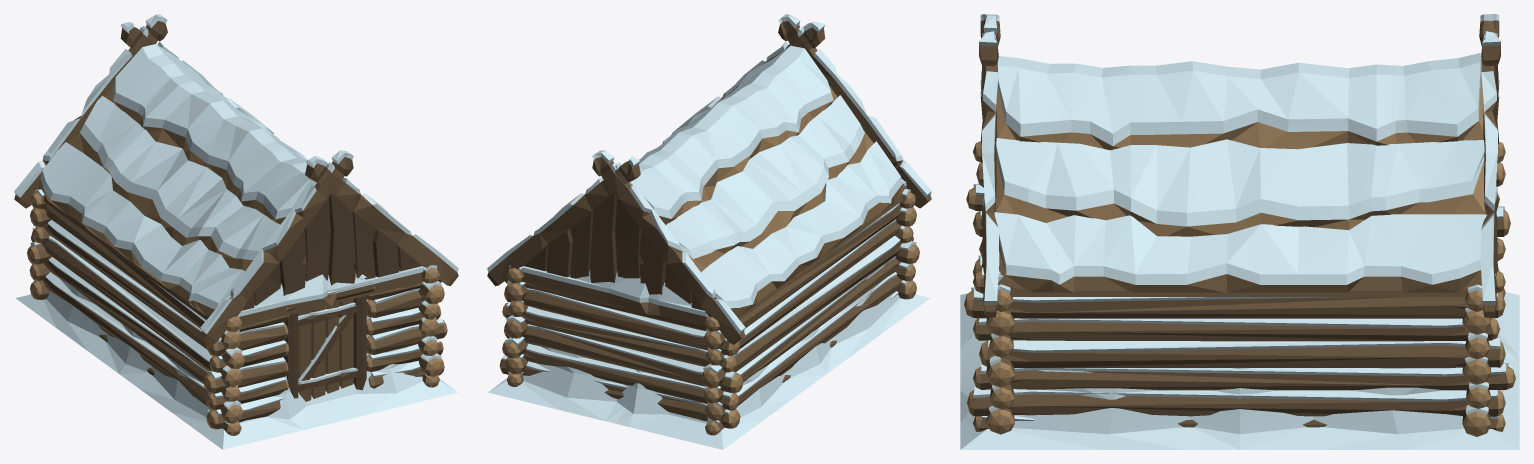
File: Casa_Larga02.glb
The picture shows the model from 3 angles, left to right: view 1: azimuth 30°, elevation 25°; view 2: azimuth 150°, elevation 25°; view 3: azimuth 270°, elevation 25°; orthographic projection. The views are drawn at different scales.
Visible parts, largest first — view 1: SM_Bld_Roof_Long_01_Snow, SM_Bld_Base_Long_Door_01_Snow; view 2: SM_Bld_Roof_Long_01_Snow, SM_Bld_Base_Long_Door_01_Snow; view 3: SM_Bld_Roof_Long_01_Snow, SM_Bld_Base_Long_Door_01_Snow.
Part boxes in pixels (left/top/right/bottom): SM_Bld_Roof_Long_01_Snow: left=14, top=14, right=458, bottom=344; SM_Bld_Base_Long_Door_01_Snow: left=15, top=189, right=457, bottom=449; SM_Bld_Roof_Long_01_Snow: left=487, top=14, right=931, bottom=344; SM_Bld_Base_Long_Door_01_Snow: left=488, top=179, right=930, bottom=449; SM_Bld_Roof_Long_01_Snow: left=979, top=14, right=1500, bottom=317; SM_Bld_Base_Long_Door_01_Snow: left=960, top=141, right=1519, bottom=449.
Size of the model in its own units: 5.28 by 5.12 by 7.43.
2 materials, 2 textured.
